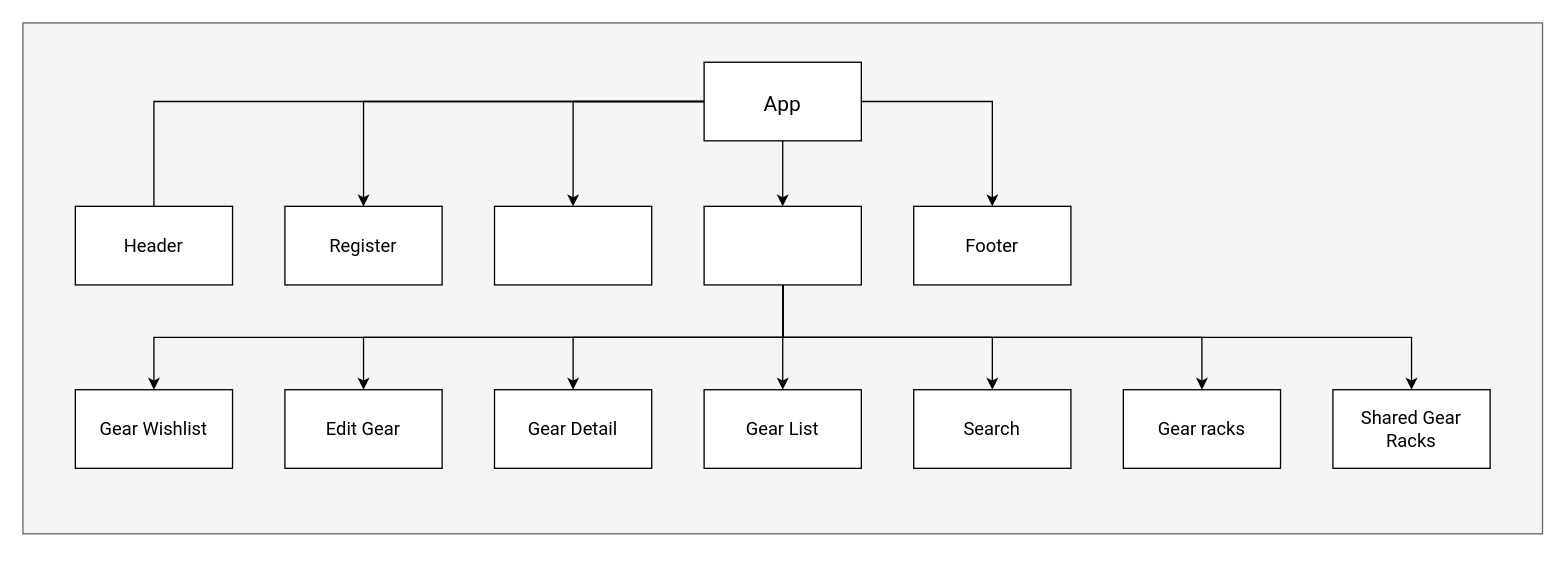
The diagram is 1565 pixels wide and 567 high, and some of its shapes have lost their labels. Each missing label, with the centre of its shape:
"Dashboard" belongs at [782,245].
"Sign in" belongs at [572,245].
